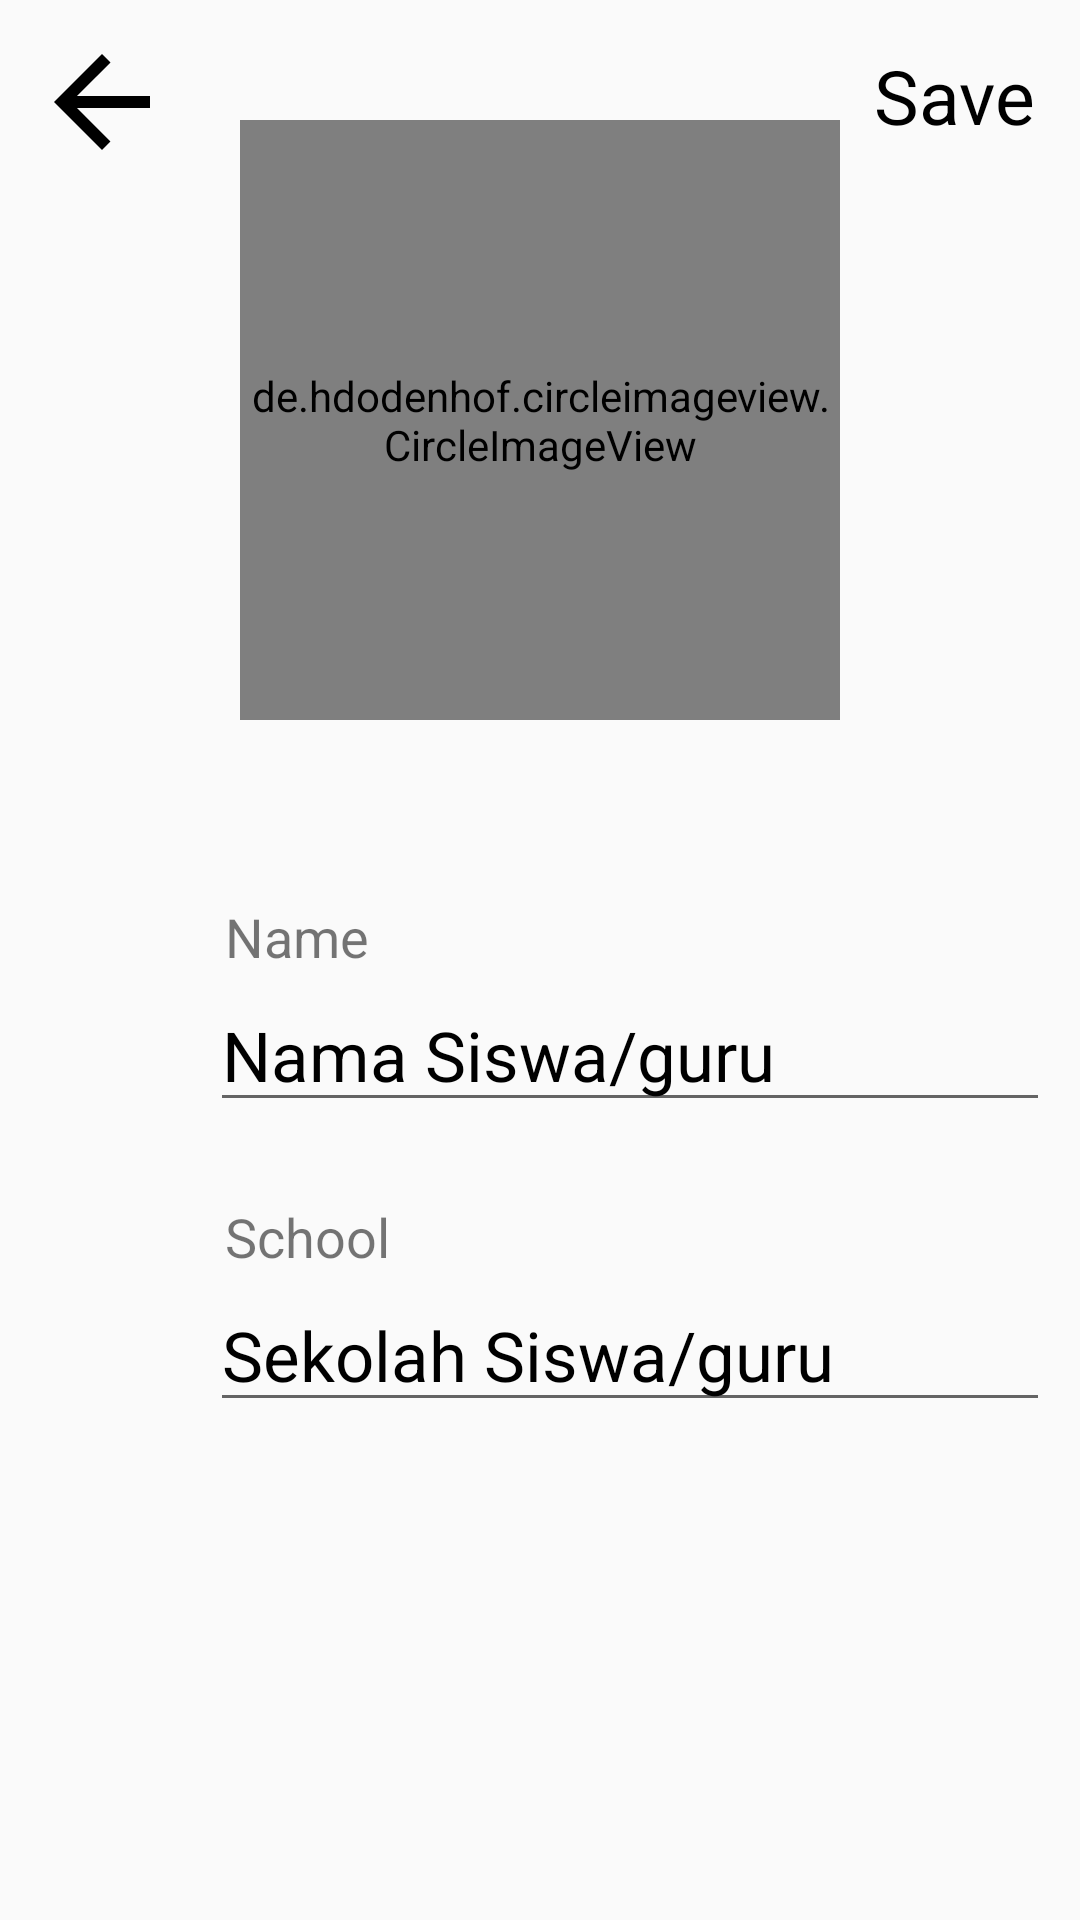

Named icons in this screenshot (1080 × 1920) and their centers, [x,y]:
arrow kembali: [102,102]
